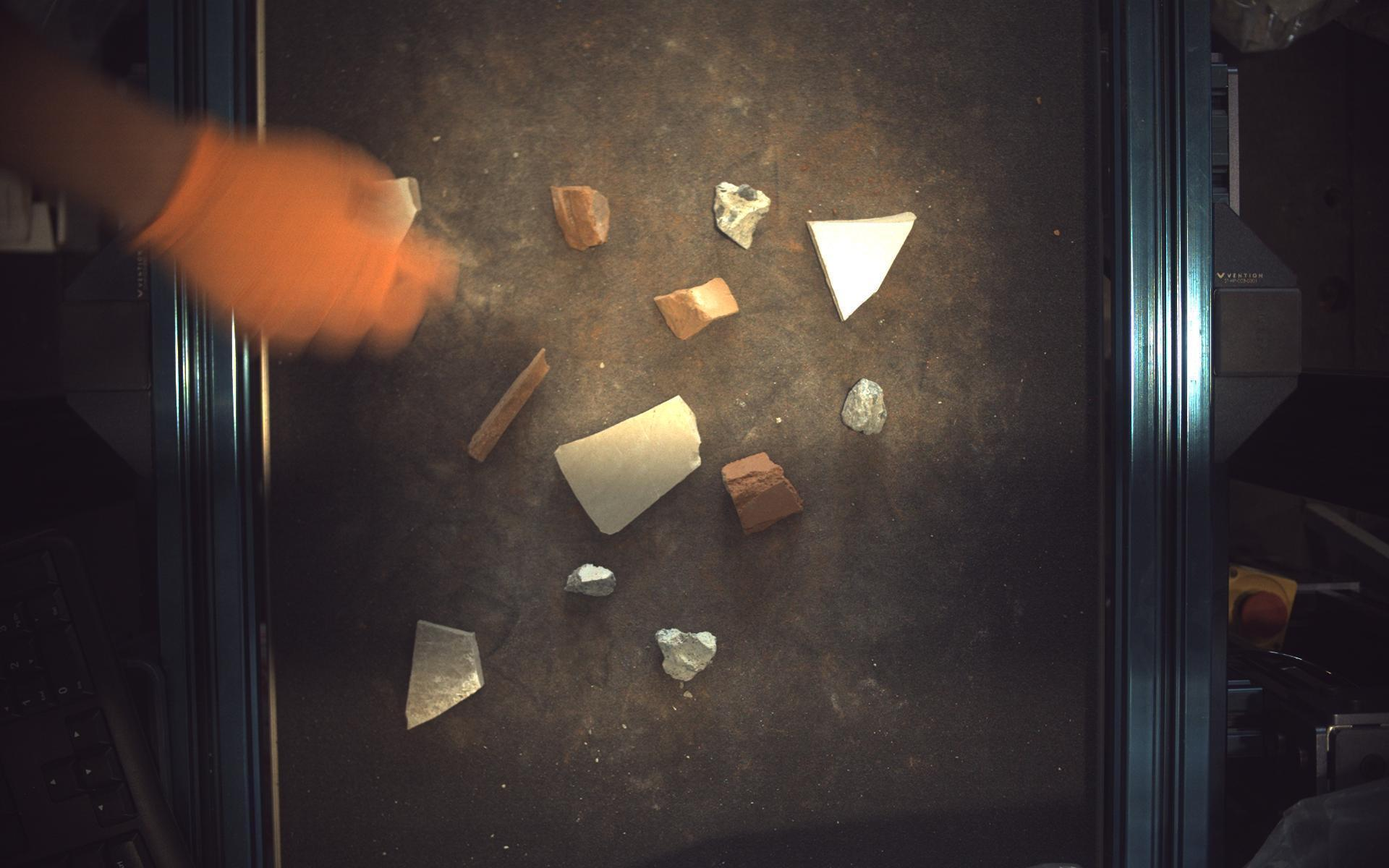brick: (468, 349, 550, 462), (723, 452, 804, 535), (655, 277, 740, 339), (552, 186, 611, 250)
concrete: (714, 181, 771, 248), (657, 629, 717, 682), (843, 378, 889, 435), (565, 563, 617, 597)
tile: (555, 396, 702, 535), (809, 210, 917, 320), (405, 621, 483, 731)
